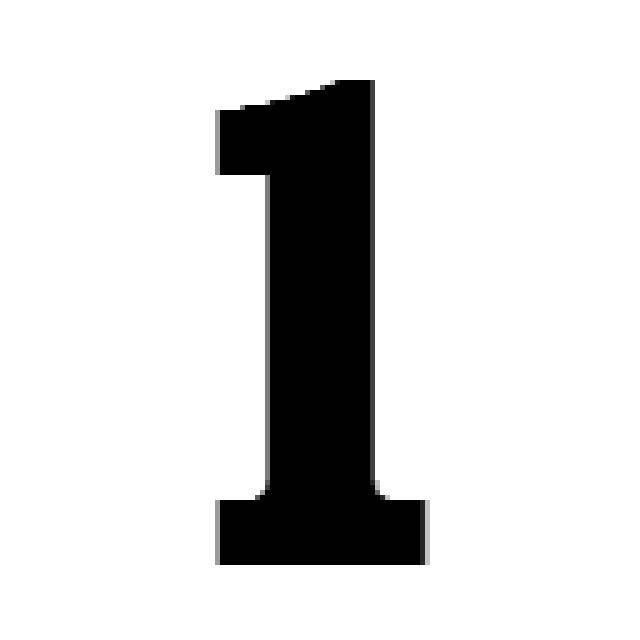L: (218, 73, 448, 568)
